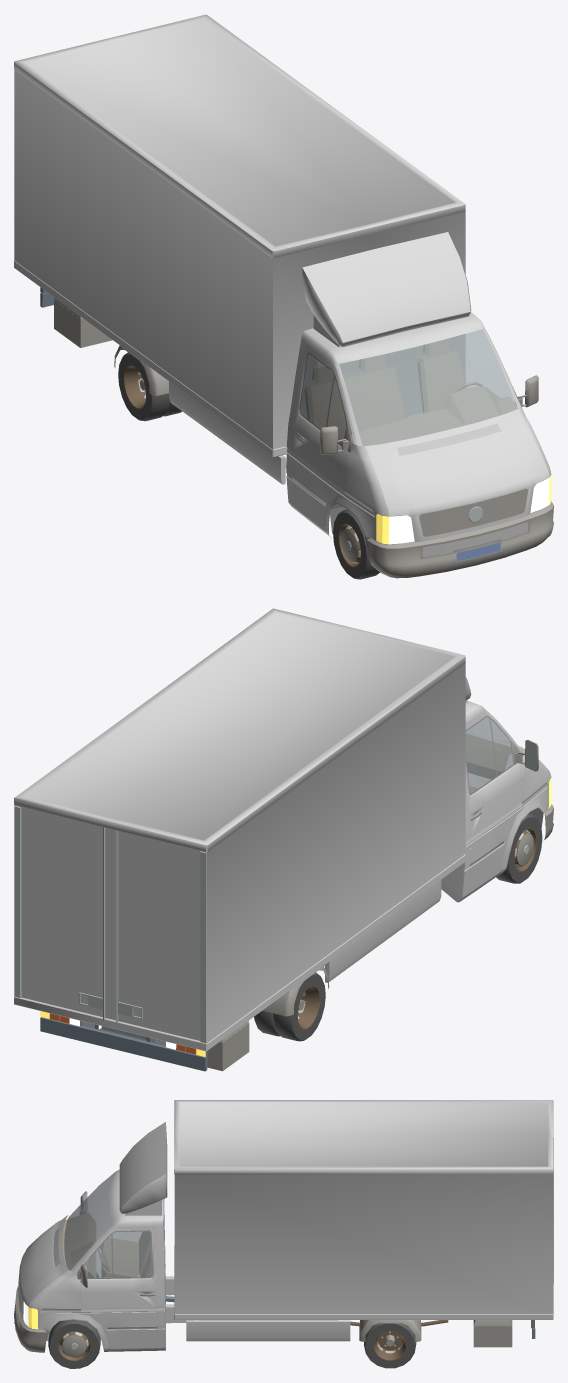
File: geo_rook.glb
3 renders of one model, top to bottom at view 1: azimuth 30°, elevation 25°; view 2: azimuth 150°, elevation 25°; view 3: azimuth 270°, elevation 25°, orthographic. The views are drawn at different scales.
Visible parts, largest first — view 1: body, glass, plastic, interior, black, tyre, headlght, wheel; view 2: body, chrome, plastic, tyre, body_blk, glass, interior, wheel, black; view 3: body, glass, plastic, interior, tyre, wheel, black.
Part boxes in pixels (box(x1,y1,x2,y2)): body: box(14, 14, 551, 541); glass: box(300, 329, 517, 446); plastic: box(54, 298, 553, 578); interior: box(305, 338, 517, 445); black: box(54, 300, 550, 563); tyre: box(118, 352, 535, 579); headlght: box(388, 477, 549, 544); wheel: box(123, 364, 361, 567); body: box(14, 608, 551, 1051); chrome: box(14, 806, 528, 1043); plastic: box(81, 715, 553, 1071); tyre: box(254, 814, 542, 1041); body_blk: box(40, 1017, 208, 1071); glass: box(465, 717, 513, 793); interior: box(466, 733, 511, 792); wheel: box(297, 827, 536, 1029); black: box(111, 711, 551, 1042); body: box(18, 1100, 553, 1351); glass: box(64, 1174, 164, 1277); plastic: box(14, 1191, 512, 1357); interior: box(62, 1212, 156, 1277); tyre: box(48, 1272, 416, 1368); wheel: box(57, 1320, 448, 1361); black: box(15, 1226, 511, 1357).
Bounding box in the file's own units: 1.44 × 1.76 × 4.23.
